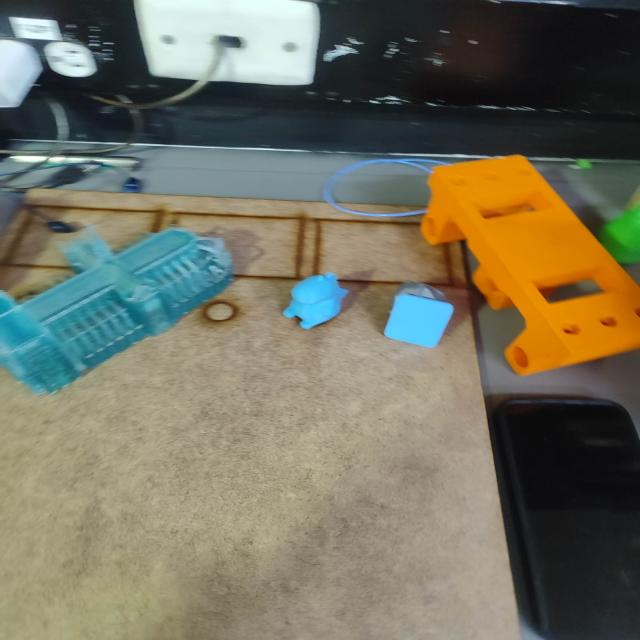DINO: (281, 267, 353, 330)
